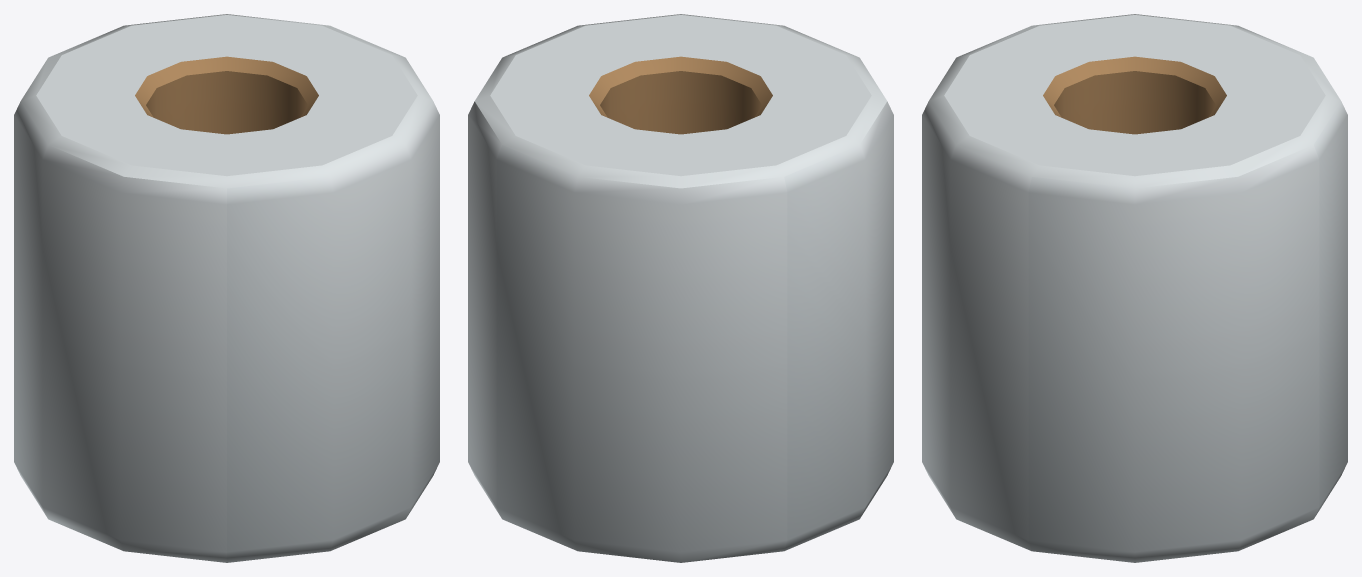
File: toiletpaper_A.gltf
The picture shows the model from 3 angles, left to right: view 1: azimuth 30°, elevation 25°; view 2: azimuth 150°, elevation 25°; view 3: azimuth 270°, elevation 25°; orthographic projection.
Visible parts, largest first — view 1: toiletpaper_A; view 2: toiletpaper_A; view 3: toiletpaper_A.
Part boxes in pixels (<box>): toiletpaper_A: <box>14,14,439,562</box>; toiletpaper_A: <box>468,14,893,562</box>; toiletpaper_A: <box>922,14,1347,562</box>.
Size of the model in its own units: 0.4 by 0.4 by 0.4.
1 material, 1 textured.
